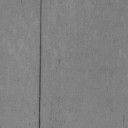surface scratch: (38, 0, 42, 128)
